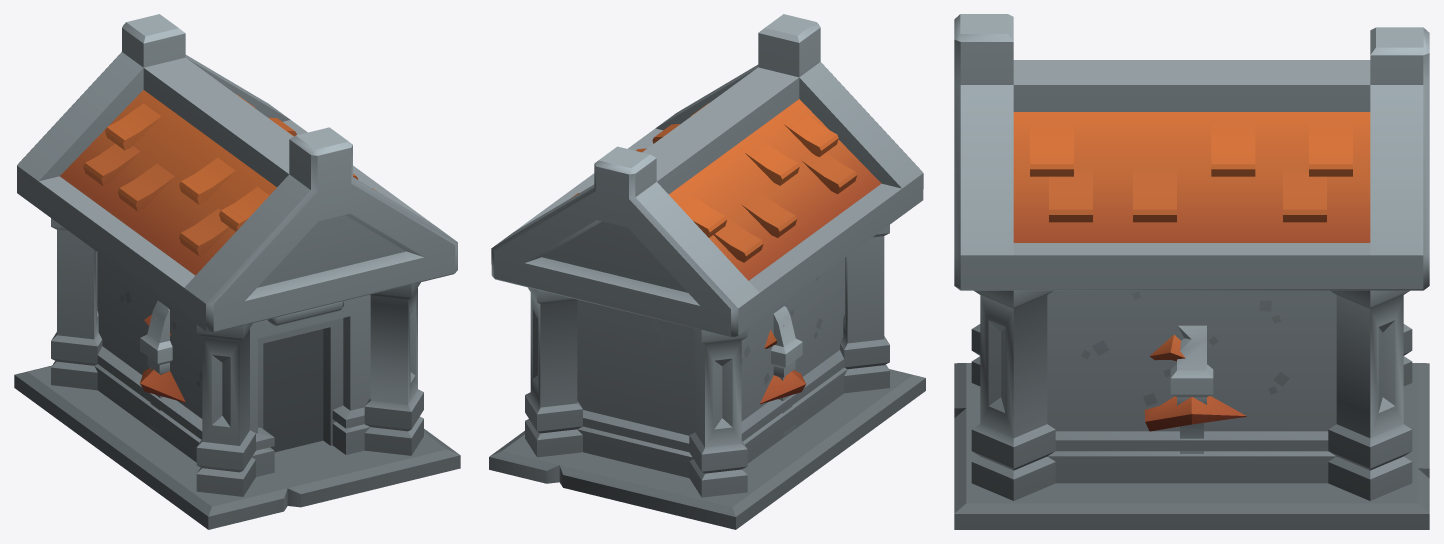
Rendered from spooky.glb.
3 renders of one model, left to right at view 1: azimuth 30°, elevation 25°; view 2: azimuth 150°, elevation 25°; view 3: azimuth 270°, elevation 25°, orthographic. The views are drawn at different scales.
Visible parts, largest first — view 1: crypt, Cube.632, tree_pine_orange_large; view 2: crypt, Cube.632, tree_pine_orange_large; view 3: crypt, Cube.632, tree_pine_orange_large.
Part boxes in pixels (x1,y1,x2,y2): crypt: (14,14,460,529); Cube.632: (140,300,172,435); tree_pine_orange_large: (140,314,185,402); crypt: (489,14,925,529); Cube.632: (771,306,802,436); tree_pine_orange_large: (760,325,805,404); crypt: (954,14,1429,529); Cube.632: (1170,325,1213,453); tree_pine_orange_large: (1144,334,1246,431).
Bounding box in the file's own units: 6 × 8.55 × 8.
1 material, 1 textured.
